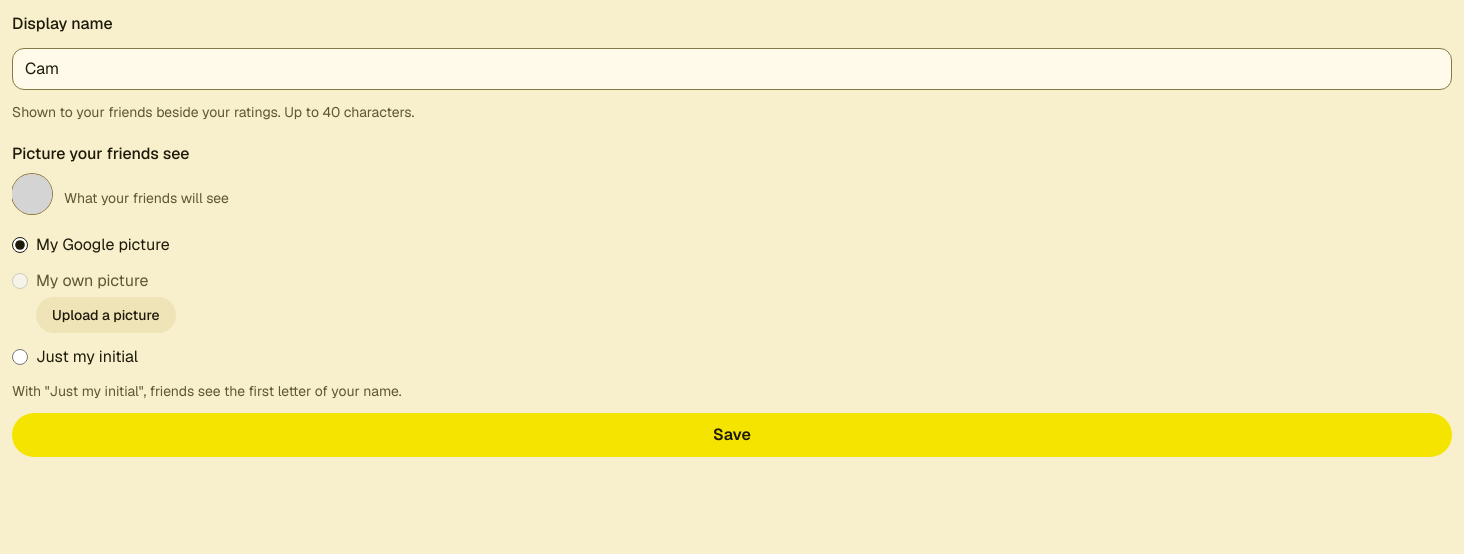
Test: DisplayNameForm: the picture choice (R79) › opens the cropper to upload
What coordinates should you click on to do the following:
click the button "Upload a picture"
I would click on:
 (106, 315)
Its box is [36,297,176,333].
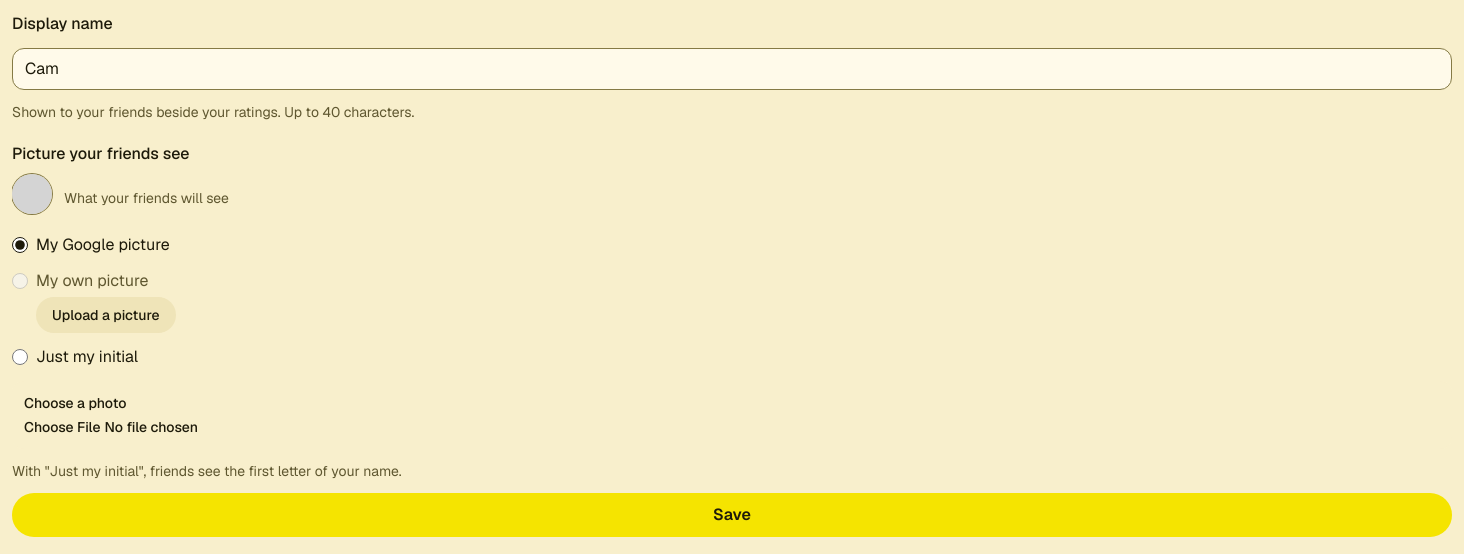
Check: the file field labelled "Choose a photo" is shown, box [24,417,1440,437]
